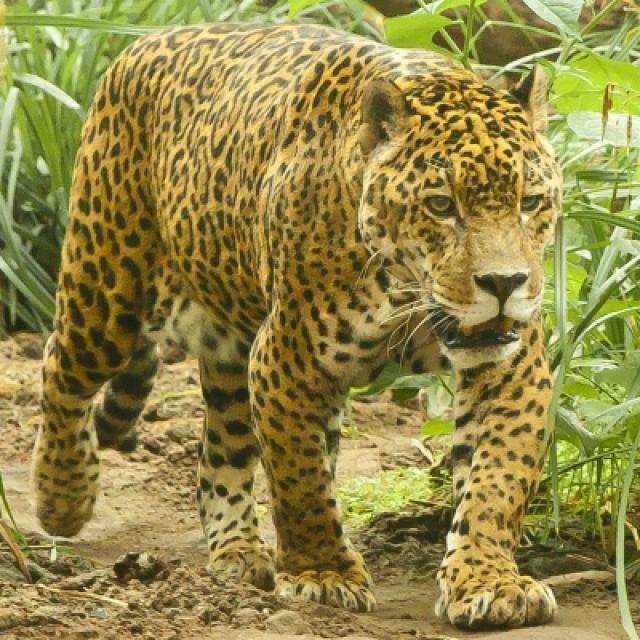Jaguar: (30, 22, 563, 632)
